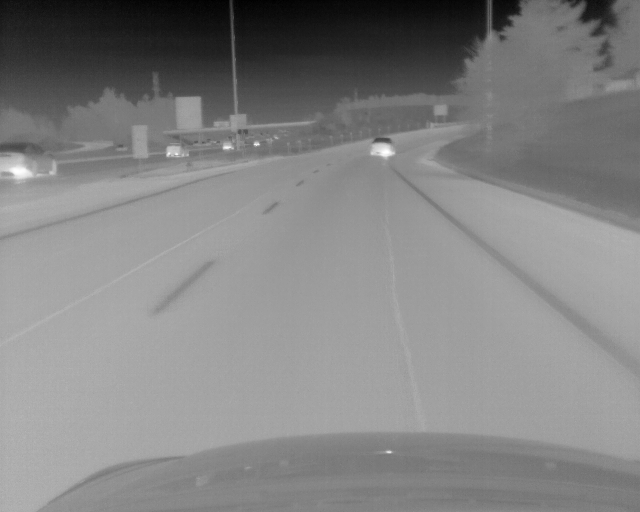car: (1, 142, 58, 182), (369, 137, 395, 158), (165, 143, 189, 158), (222, 142, 233, 152)
